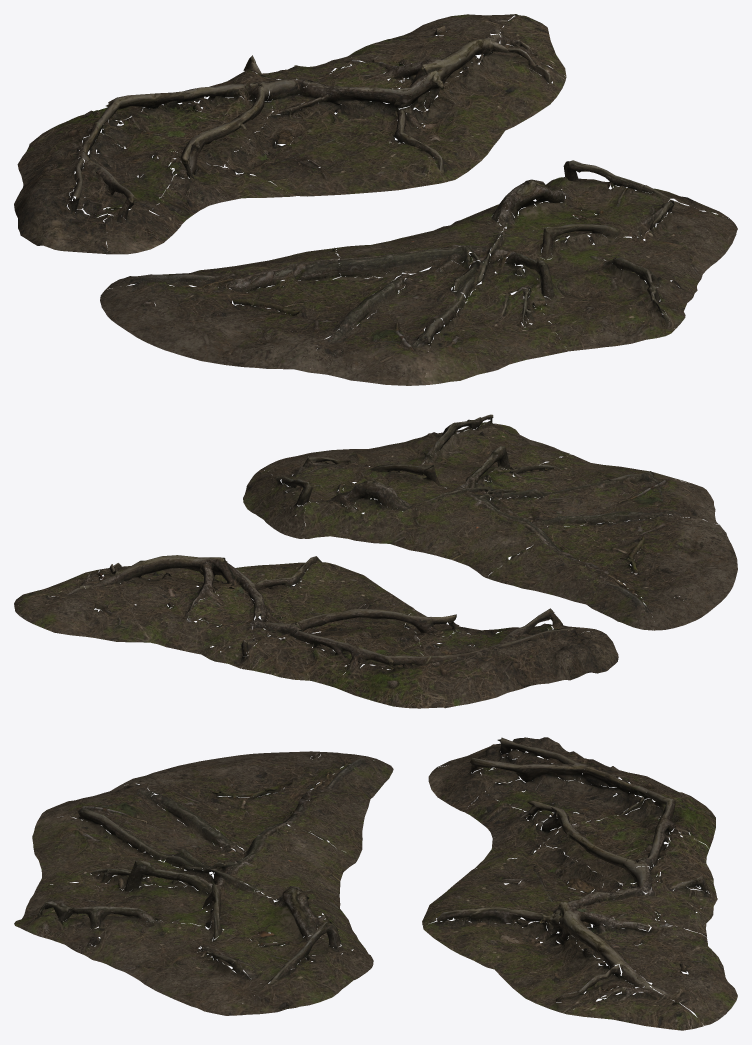
File: pine_roots.glb
3 renders of one model, top to bottom at view 1: azimuth 30°, elevation 25°; view 2: azimuth 150°, elevation 25°; view 3: azimuth 270°, elevation 25°, orthographic. The views are drawn at different scales.
Visible parts, largest first — view 1: pine_roots_b, pine_roots_a; view 2: pine_roots_b, pine_roots_a; view 3: pine_roots_b, pine_roots_a.
Boxes of the visible parts, x1,y1,x2,y2 form: pine_roots_b: (100, 160, 737, 385); pine_roots_a: (14, 14, 566, 254); pine_roots_b: (243, 414, 737, 630); pine_roots_a: (14, 555, 618, 708); pine_roots_b: (14, 751, 393, 1015); pine_roots_a: (422, 737, 737, 1030).
Size of the model in its own units: 1.77 by 0.1542 by 1.89.
Materials: 2 (2 with a texture image).
